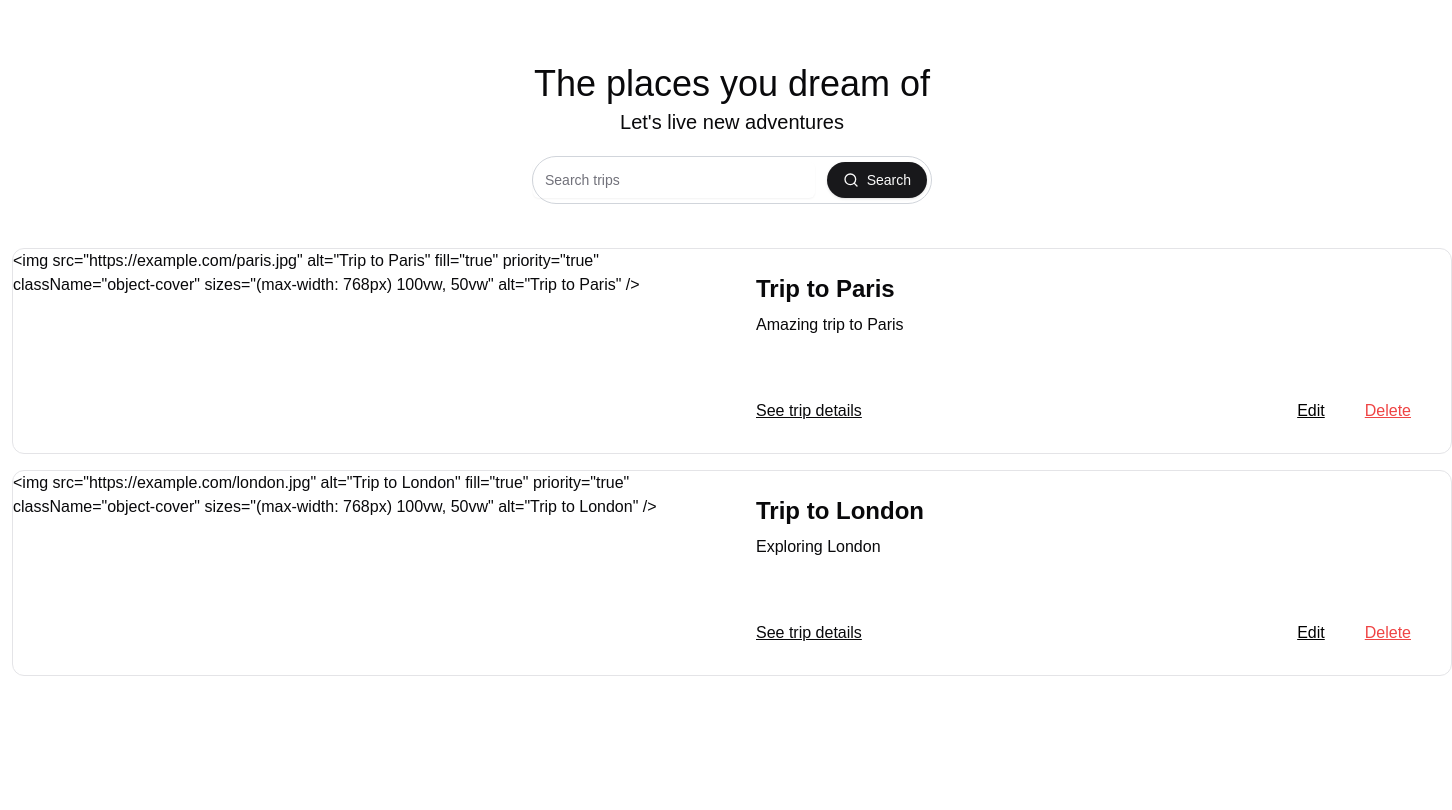
Test: Search Functionality › searches through trip descriptions
The width and height of the screenshot is (1452, 810).
Type "Amazing" into the search field with placeholder "Search trips".
click(674, 180); type("Amazing")  # box [533, 162, 815, 198]
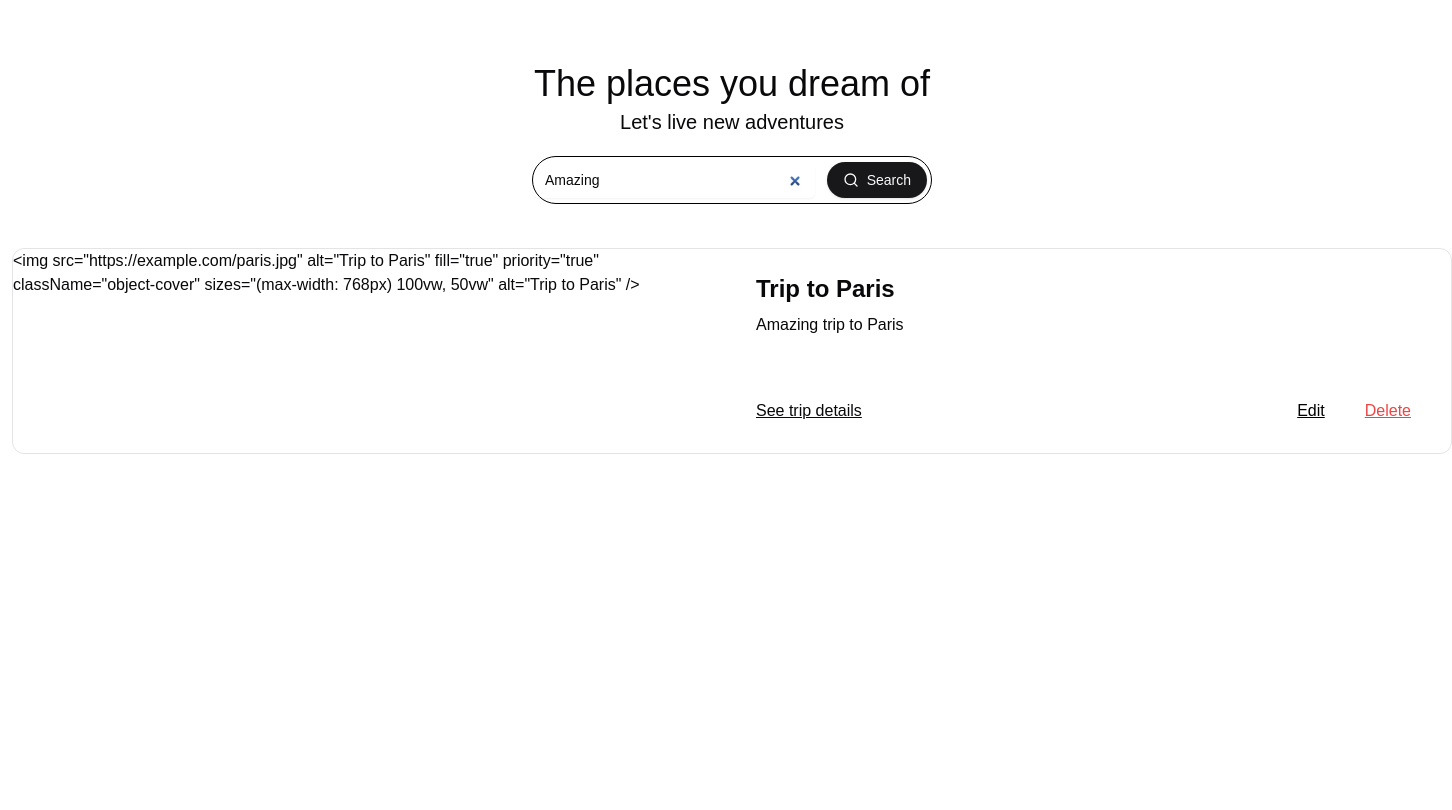
Expected: the heading "Trip to Paris" is shown, [756, 275, 895, 302]
Result: the text "Trip to London" is gone
